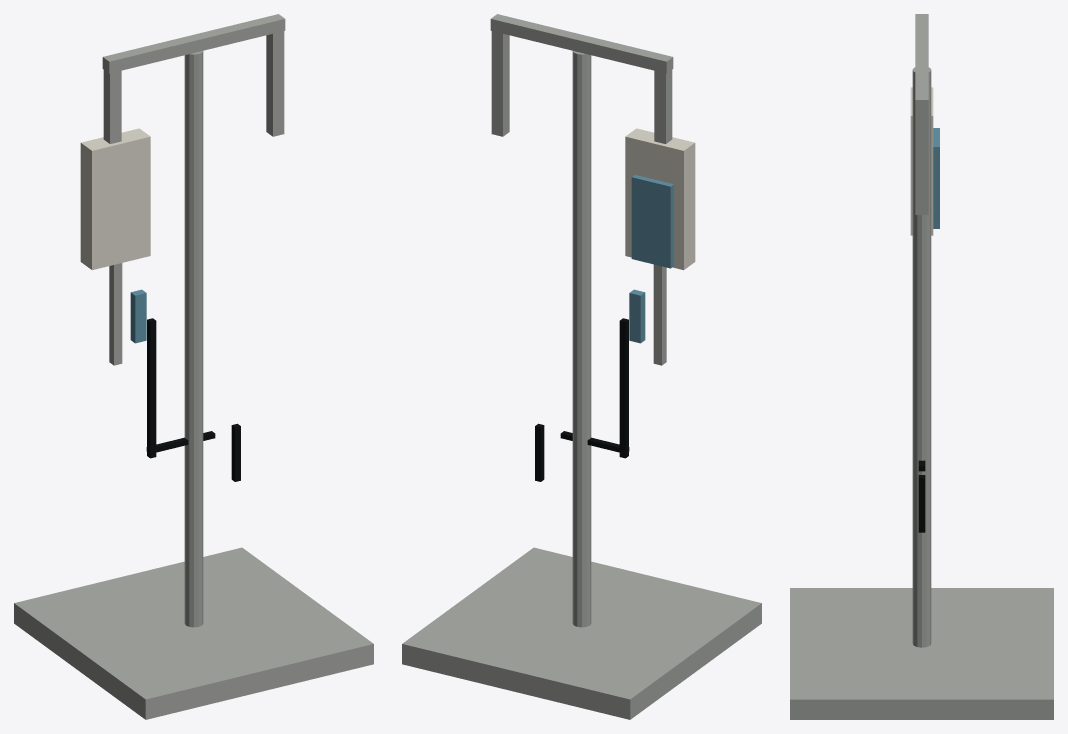
The model's file is iv_stand.obj.
3 views of the same model, side by side, from view 1: azimuth 30°, elevation 25°; view 2: azimuth 150°, elevation 25°; view 3: azimuth 270°, elevation 25° (orthographic).
Visible parts, largest first — view 1: ward_iv_stand; view 2: ward_iv_stand; view 3: ward_iv_stand.
Boxes of the visible parts, x1,y1,x2,y2 form: ward_iv_stand: (14, 14, 373, 719); ward_iv_stand: (402, 14, 761, 719); ward_iv_stand: (790, 14, 1053, 719).
Size of the model in its own units: 0.7 by 1.78 by 0.7.
